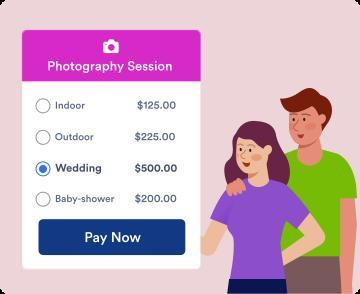button: (39, 219, 187, 256)
icon: (102, 37, 123, 55)
label: (56, 131, 177, 147), (56, 99, 179, 114), (56, 192, 183, 206), (45, 62, 175, 75), (56, 163, 182, 176)
radio: (36, 98, 53, 115), (35, 161, 52, 178), (35, 192, 52, 209), (36, 130, 52, 147)
